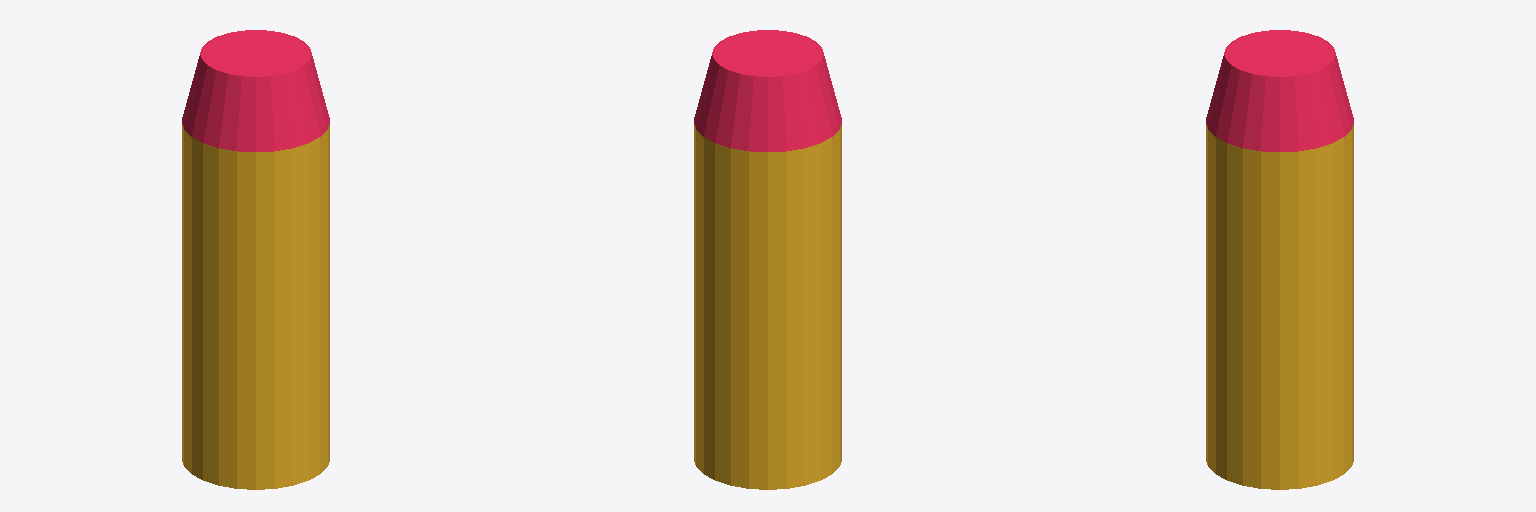
The model's file is foamBulletB.obj.
The picture shows the model from 3 angles: view 1: azimuth 30°, elevation 25°; view 2: azimuth 150°, elevation 25°; view 3: azimuth 270°, elevation 25°; orthographic projection.
Visible parts, largest first — view 1: foamBulletB; view 2: foamBulletB; view 3: foamBulletB.
Boxes of the visible parts, box(x1,y1,x2,y2) form: foamBulletB: box(182, 30, 329, 489); foamBulletB: box(694, 30, 841, 489); foamBulletB: box(1206, 30, 1353, 489).
Size of the model in its own units: 0.02 by 0.06 by 0.02.